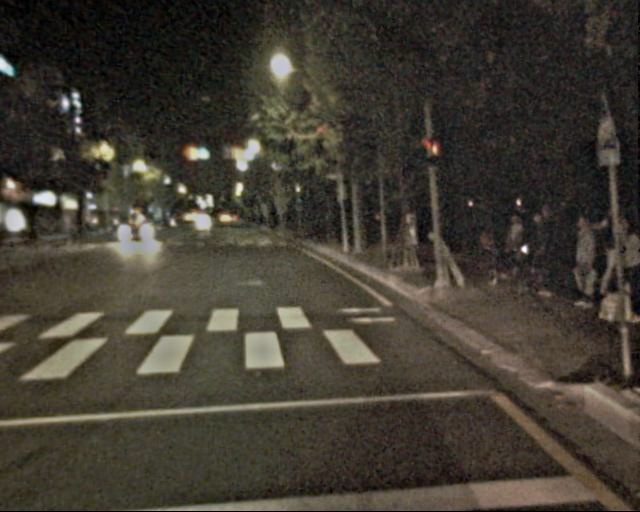person: (506, 209, 561, 295), (591, 208, 630, 304), (566, 216, 604, 309), (609, 214, 640, 325)
